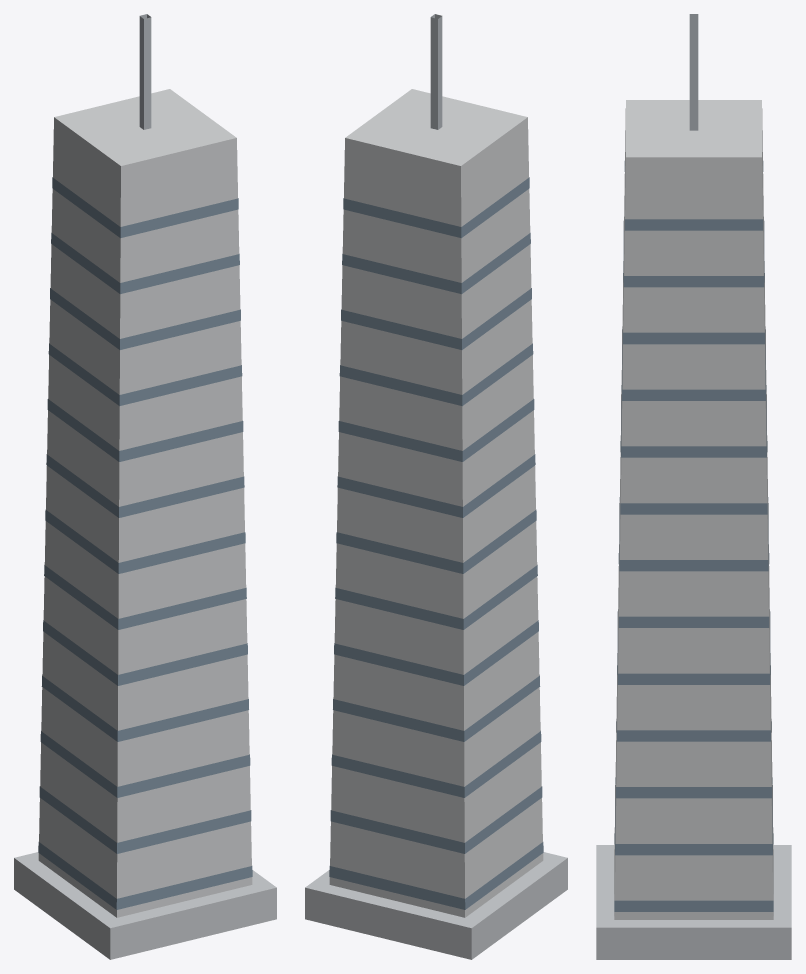
Rendered from bec.glb.
3 views of the same model, side by side, from view 1: azimuth 30°, elevation 25°; view 2: azimuth 150°, elevation 25°; view 3: azimuth 270°, elevation 25° (orthographic).
Size of the model in its own units: 22 by 112 by 22.
